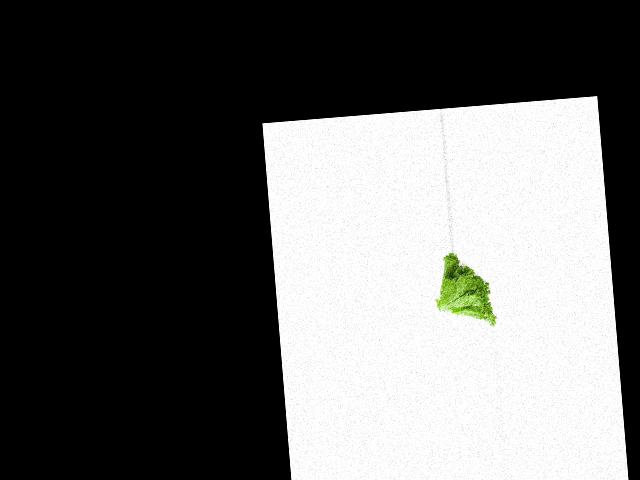lettuce: (433, 248, 498, 331)
